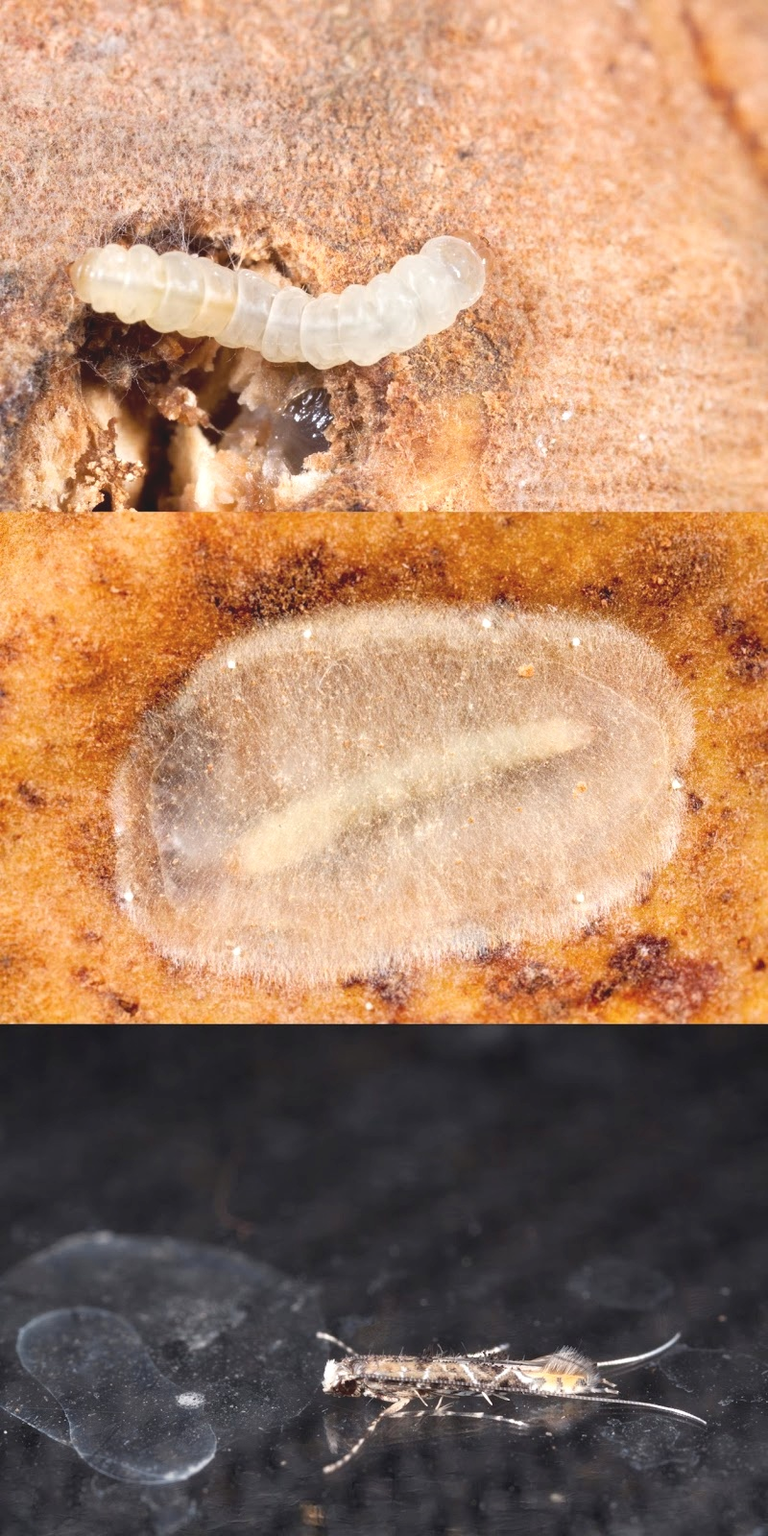Stink_Bug: (168, 628, 676, 935), (81, 217, 491, 368), (324, 1333, 658, 1455)
